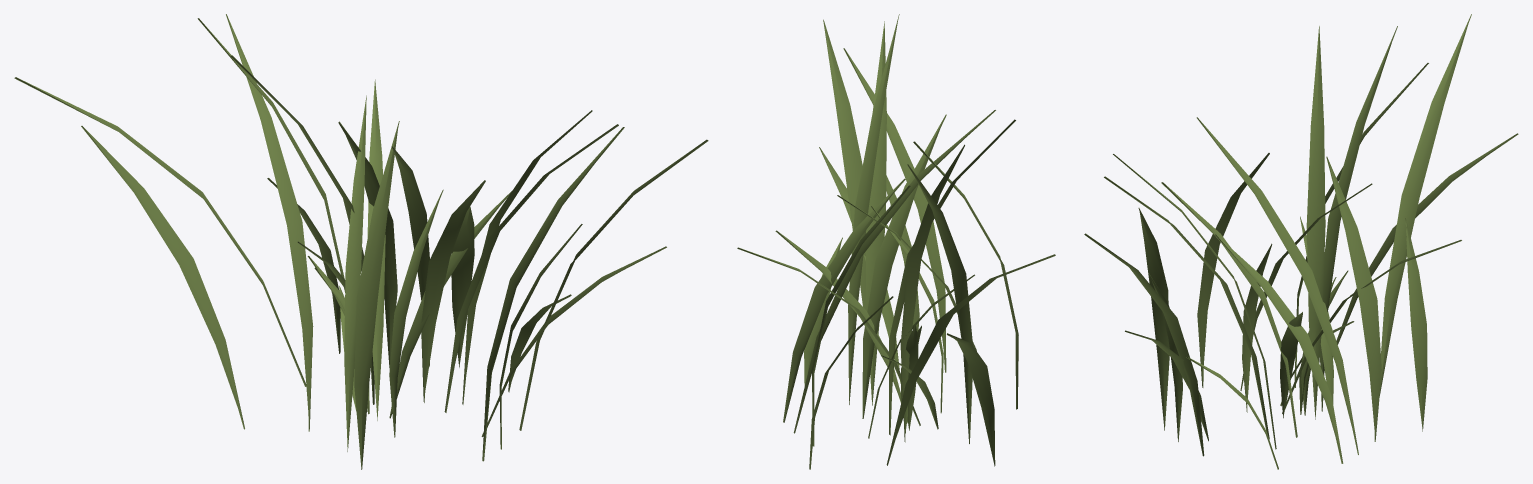
Rendered from grass-clump.gltf.
The picture shows the model from 3 angles, left to right: view 1: azimuth 30°, elevation 25°; view 2: azimuth 150°, elevation 25°; view 3: azimuth 270°, elevation 25°; orthographic projection. The views are drawn at different scales.
Parts seen in each view (by area): view 1: grass-clump; view 2: grass-clump; view 3: grass-clump.
Part boxes in pixels (x1,y1,x2,y2): grass-clump: (14, 14, 708, 469); grass-clump: (737, 14, 1055, 469); grass-clump: (1084, 14, 1518, 469).
Size of the model in its own units: 0.6791 by 0.5252 by 0.6095.
